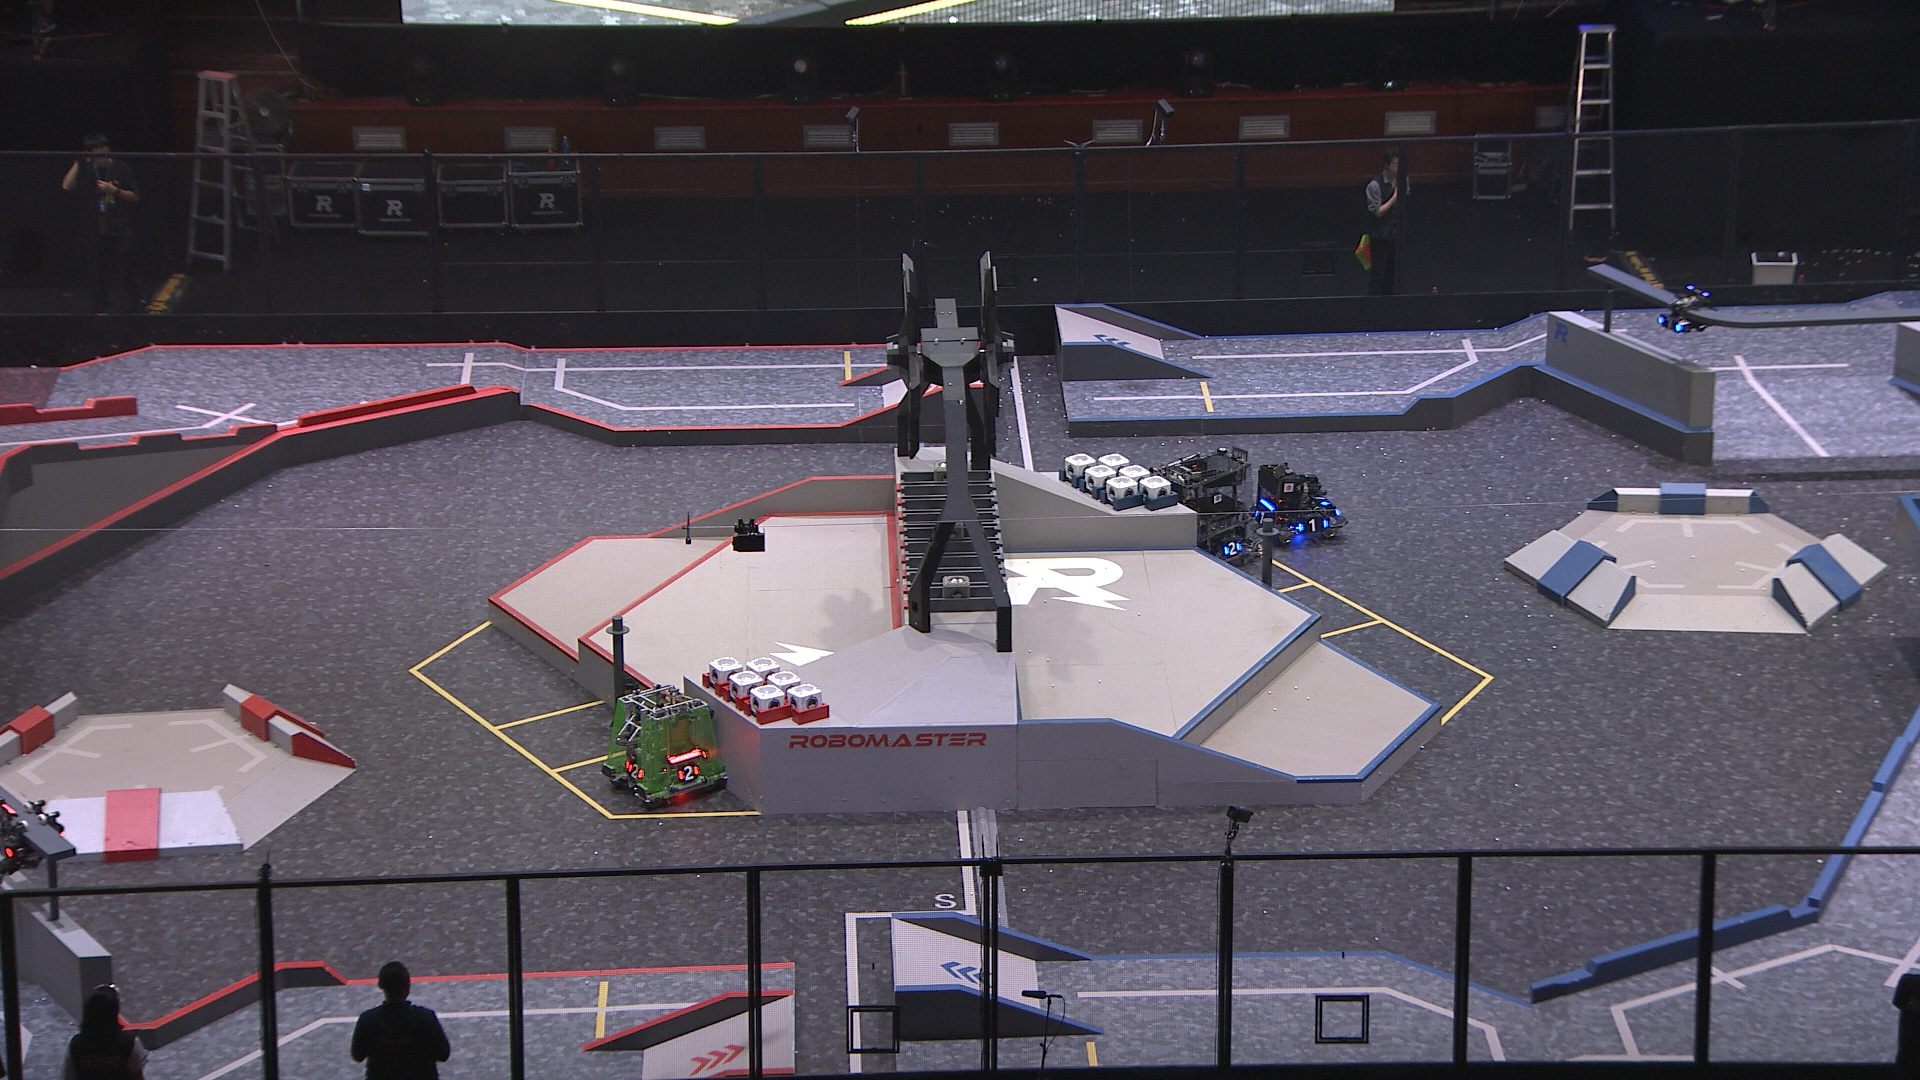armor: (1656, 314, 1685, 334), (678, 761, 702, 785), (624, 760, 647, 782), (1298, 518, 1329, 533), (1222, 541, 1244, 560), (1311, 493, 1333, 512), (1253, 508, 1271, 527)
car: (603, 683, 731, 806), (1149, 447, 1265, 570), (1250, 458, 1352, 545)
watcher: (1655, 284, 1716, 335)
